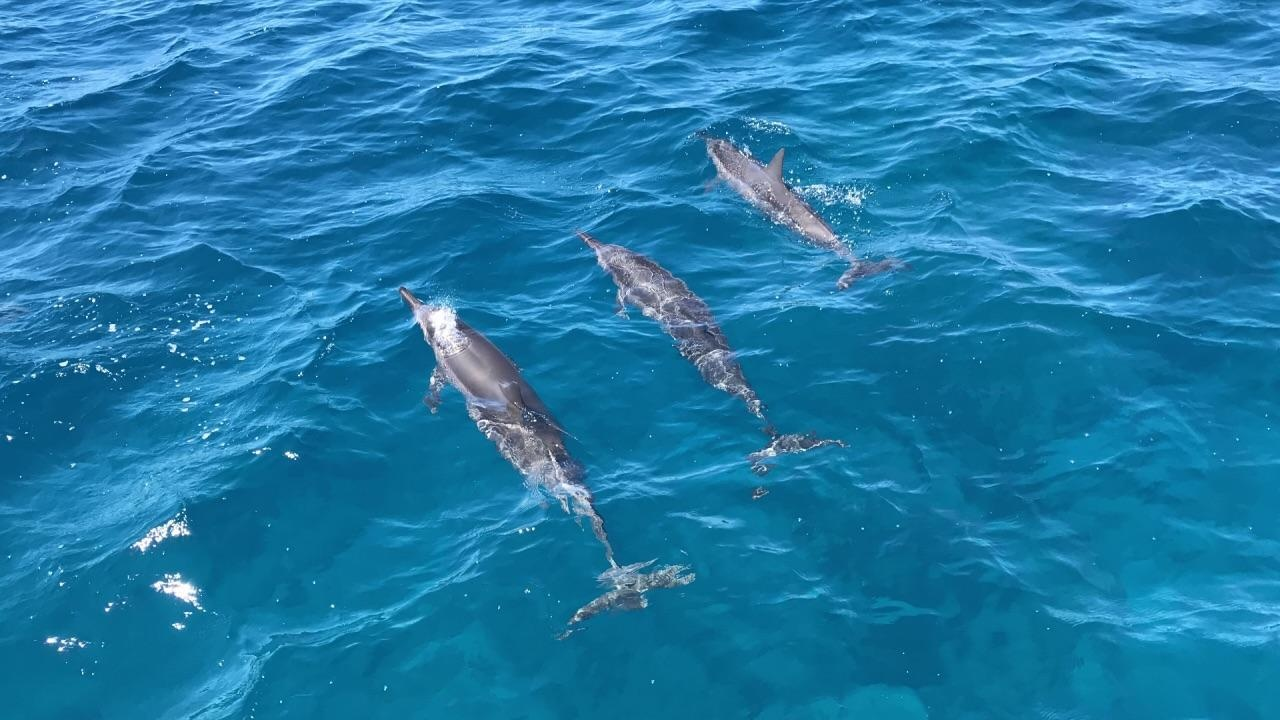fish: (395, 279, 701, 628), (576, 216, 849, 475), (702, 134, 918, 287)
